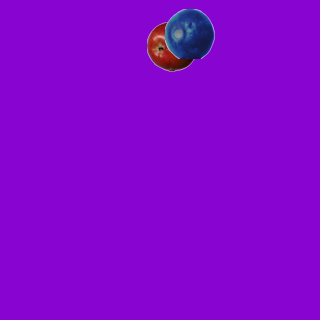Apple Braeburn: (146, 21, 196, 71)
Huckleberry: (164, 8, 214, 58)
